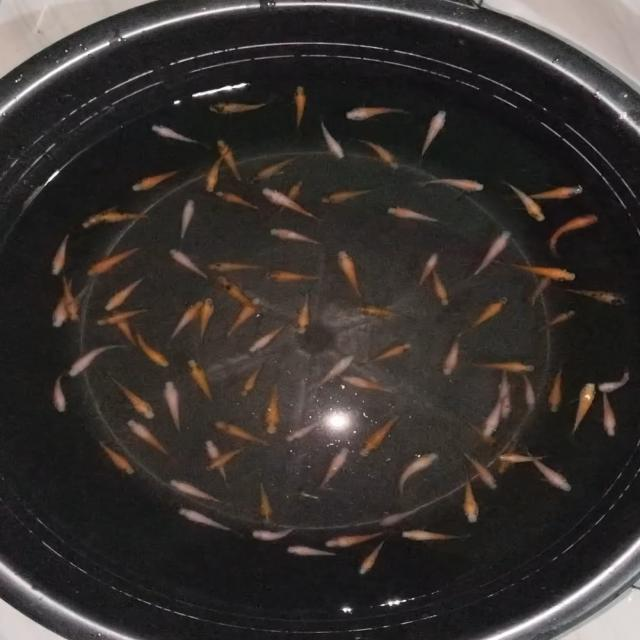nila: (358, 406, 410, 458), (302, 349, 356, 396), (468, 227, 512, 283), (165, 294, 212, 346), (395, 447, 442, 499), (214, 272, 267, 316), (258, 188, 324, 223), (547, 210, 599, 254), (499, 178, 547, 225), (456, 448, 504, 494), (500, 258, 578, 286), (218, 293, 264, 339), (353, 134, 403, 176), (561, 283, 629, 313), (530, 450, 572, 498), (128, 421, 176, 461), (246, 152, 302, 186), (564, 378, 594, 441), (462, 294, 509, 334), (162, 478, 226, 507), (416, 105, 449, 161), (111, 379, 155, 421), (315, 114, 355, 159), (92, 240, 144, 274), (102, 275, 146, 315), (130, 326, 174, 366), (149, 118, 207, 148), (455, 466, 485, 524), (96, 434, 137, 476), (342, 100, 413, 124), (198, 440, 235, 486), (125, 164, 181, 194), (181, 358, 216, 406), (167, 243, 210, 282), (176, 507, 243, 532), (205, 95, 277, 118), (361, 338, 414, 369), (319, 442, 350, 494), (324, 527, 394, 550), (493, 370, 525, 420), (337, 243, 365, 300), (264, 224, 330, 248), (509, 180, 588, 200), (272, 174, 306, 220), (162, 378, 188, 438), (69, 343, 111, 380), (468, 354, 538, 376), (382, 204, 446, 228), (243, 322, 288, 356), (48, 273, 73, 334), (262, 373, 284, 441), (213, 420, 270, 446), (352, 538, 389, 578), (459, 413, 501, 448), (413, 175, 486, 195), (525, 265, 556, 311), (484, 388, 510, 442), (217, 136, 245, 186), (334, 374, 404, 394), (75, 200, 120, 231), (374, 504, 436, 526), (236, 357, 266, 402), (213, 189, 264, 215), (50, 229, 76, 278), (254, 477, 278, 529), (321, 182, 372, 206), (516, 361, 538, 416), (204, 448, 244, 478), (112, 307, 141, 348), (412, 248, 439, 292), (427, 264, 452, 309), (287, 417, 327, 445), (398, 526, 476, 540), (206, 147, 228, 196), (441, 331, 462, 382), (59, 274, 82, 320), (548, 360, 566, 418), (96, 308, 148, 328), (352, 305, 408, 323), (294, 290, 314, 340), (493, 440, 518, 480), (284, 544, 346, 560), (262, 268, 323, 284), (600, 389, 618, 442), (598, 367, 634, 393), (540, 310, 576, 336), (50, 368, 69, 417), (178, 196, 198, 241), (500, 448, 556, 464), (197, 291, 214, 341), (249, 524, 295, 542), (290, 81, 306, 130), (206, 261, 266, 274), (89, 214, 152, 226)
